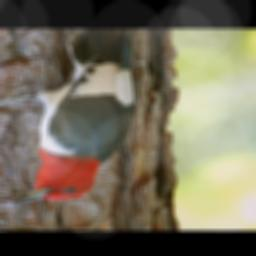Woodpecker: (0, 31, 137, 204)
